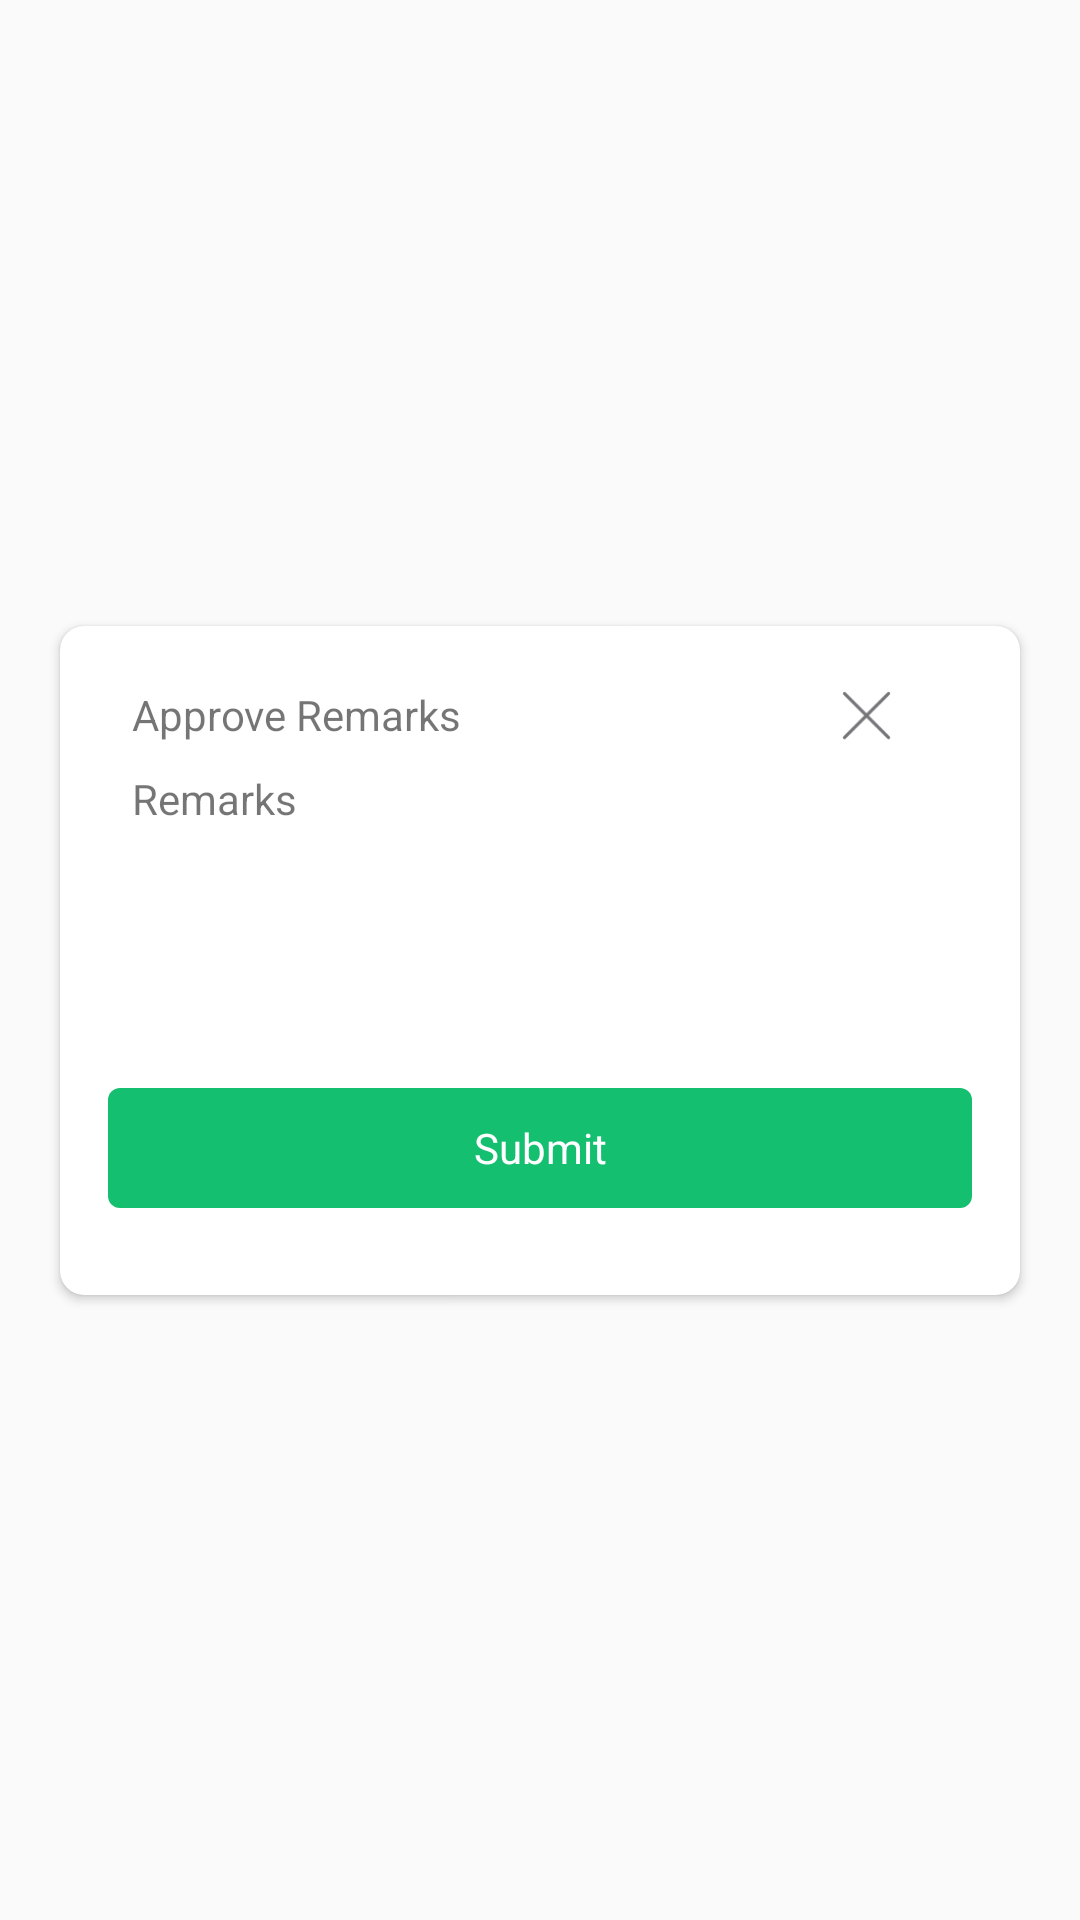

Named icons in this screenshot (1080px×1920px) and their bounding boxes, (x1, y1, x2, y2):
cross: (843, 692, 890, 740)
